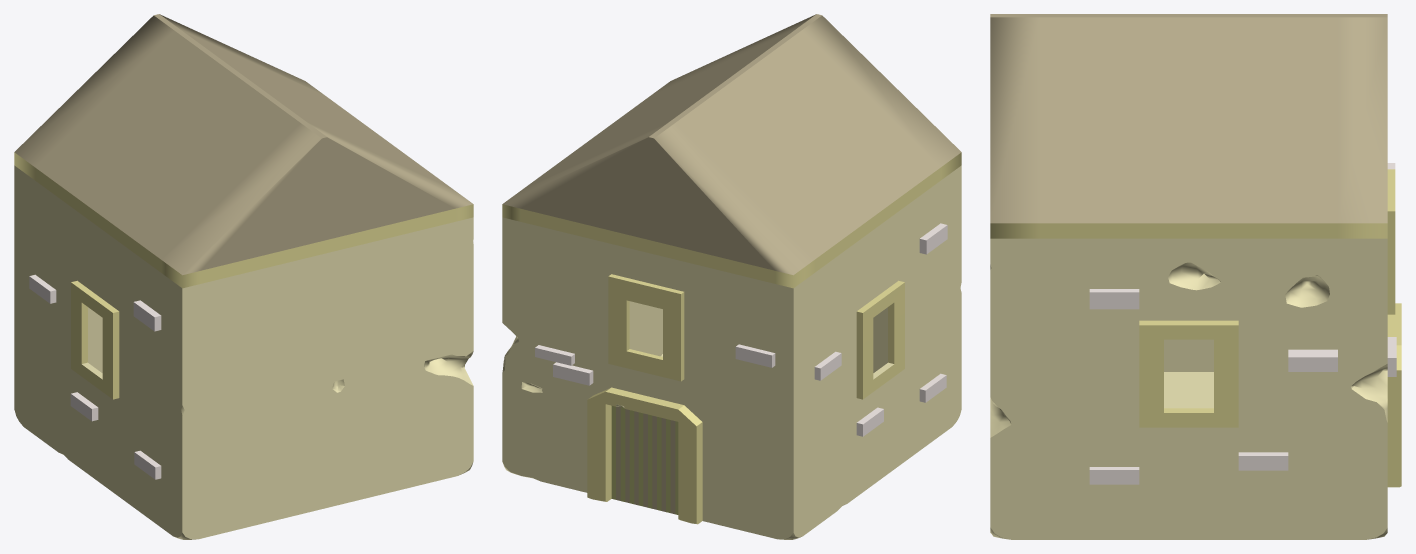
Rendered from casaAmarilla.fbx.
3 renders of one model, left to right at view 1: azimuth 30°, elevation 25°; view 2: azimuth 150°, elevation 25°; view 3: azimuth 270°, elevation 25°, orthographic. The views are drawn at different scales.
Parts seen in each view (by area): view 1: Cube_dmg; view 2: Cube_dmg; view 3: Cube_dmg.
Part boxes in pixels (bbox=[...]): Cube_dmg: bbox=[14, 14, 473, 539]; Cube_dmg: bbox=[502, 14, 961, 539]; Cube_dmg: bbox=[990, 14, 1401, 539].
Size of the model in its own units: 214 by 243 by 207.
